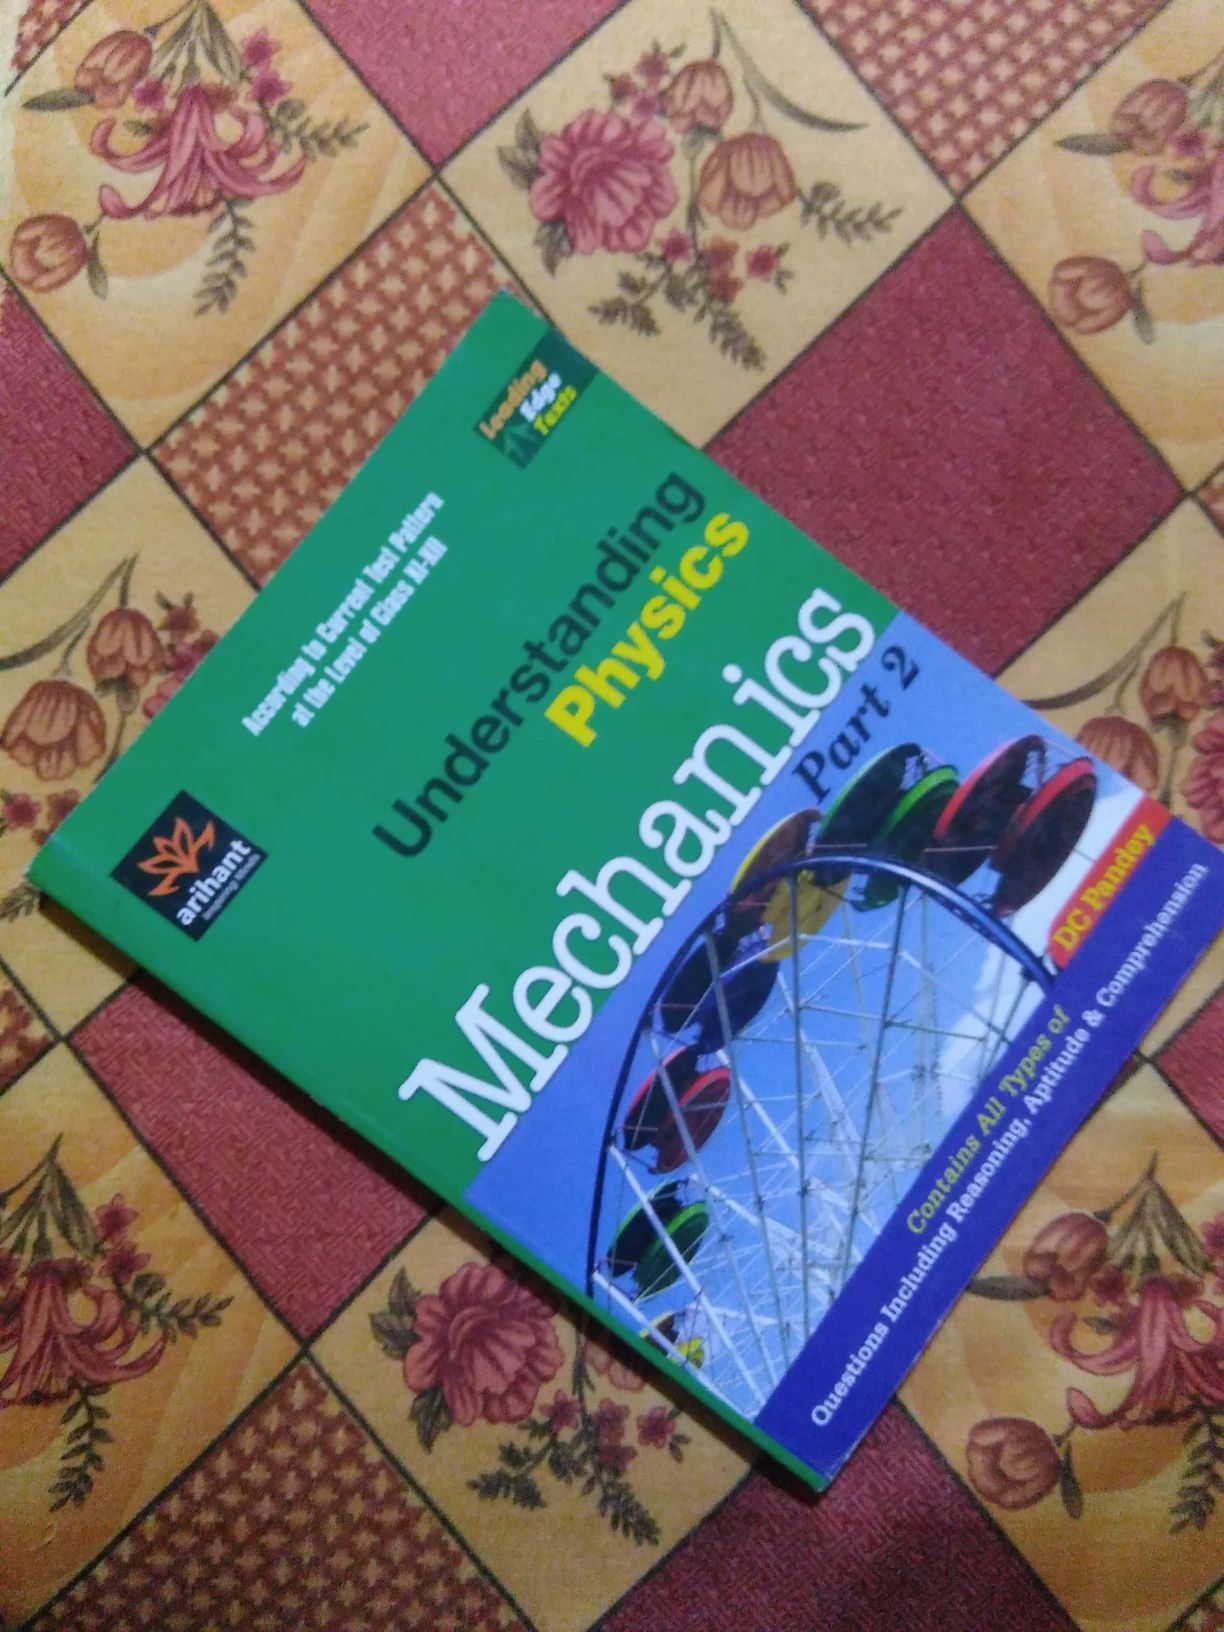mechanics: (85, 335, 1221, 1448)
